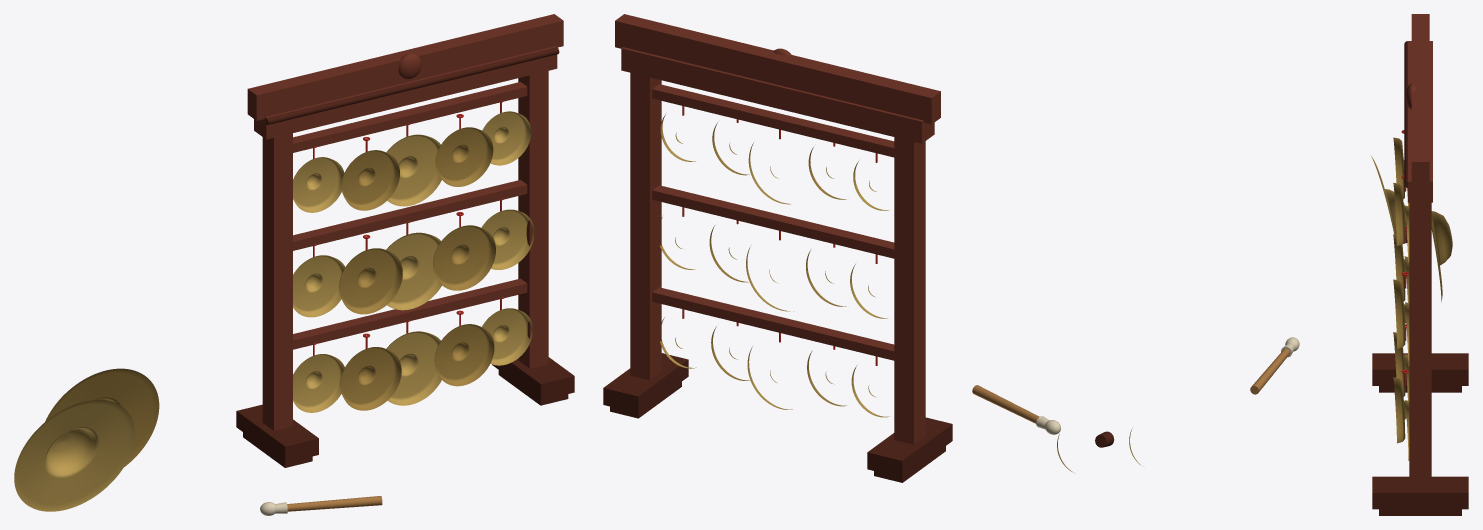
The model's file is cong-chieng.glb.
The picture shows the model from 3 angles, left to right: view 1: azimuth 30°, elevation 25°; view 2: azimuth 150°, elevation 25°; view 3: azimuth 270°, elevation 25°; orthographic projection. The views are drawn at different scales.
Parts seen in each view (by area): view 1: crest_board, cymbal_front, upright_left, upright_right, top_beam, cymbal_back, rail_1, rail_2, rail_3, gong_2_2, gong_2_4, gong_3_2 (+16 smaller); view 2: crest_board, upright_left, upright_right, top_beam, rail_1, rail_3, rail_2, foot_left, foot_right, mallet_handle; view 3: upright_right, crest_board, foot_right, foot_left, top_beam, cymbal_back, gong_2_4, gong_3_4, gong_1_4, foot_pad_right, crest_beading, mallet_handle (+5 smaller).
Part boxes in pixels (x1=…): crest_board: x1=247, y1=14, x2=563, y2=120; cymbal_front: x1=14, y1=400, x2=134, y2=511; upright_left: x1=262, y1=133, x2=292, y2=430; upright_right: x1=518, y1=71, x2=548, y2=368; top_beam: x1=254, y1=46, x2=557, y2=139; cymbal_back: x1=45, y1=368, x2=159, y2=466; rail_1: x1=293, y1=82, x2=527, y2=152; rail_2: x1=293, y1=180, x2=527, y2=250; rail_3: x1=293, y1=278, x2=527, y2=349; gong_2_2: x1=339, y1=248, x2=402, y2=314; gong_2_4: x1=433, y1=225, x2=495, y2=290; gong_3_2: x1=340, y1=347, x2=401, y2=410; crest_board: x1=615, y1=14, x2=940, y2=124; upright_left: x1=894, y1=137, x2=925, y2=444; upright_right: x1=630, y1=72, x2=661, y2=380; top_beam: x1=621, y1=47, x2=934, y2=143; rail_1: x1=652, y1=84, x2=894, y2=157; rail_3: x1=652, y1=287, x2=894, y2=360; rail_2: x1=652, y1=185, x2=894, y2=258; foot_left: x1=867, y1=417, x2=952, y2=477; foot_right: x1=603, y1=353, x2=688, y2=413; mallet_handle: x1=972, y1=385, x2=1039, y2=423; upright_right: x1=1409, y1=202, x2=1431, y2=489; crest_board: x1=1411, y1=14, x2=1429, y2=187; foot_right: x1=1372, y1=476, x2=1468, y2=509; foot_left: x1=1372, y1=353, x2=1468, y2=385; top_beam: x1=1408, y1=41, x2=1432, y2=202; cymbal_back: x1=1431, y1=211, x2=1452, y2=301; gong_2_4: x1=1393, y1=279, x2=1406, y2=348; gong_3_4: x1=1393, y1=377, x2=1406, y2=443; gong_1_4: x1=1393, y1=183, x2=1406, y2=245; foot_pad_right: x1=1379, y1=509, x2=1461, y2=515; crest_beading: x1=1404, y1=41, x2=1410, y2=187; mallet_handle: x1=1250, y1=348, x2=1289, y2=394.
Size of the model in its own units: 1.43 by 0.8935 by 0.4866.
